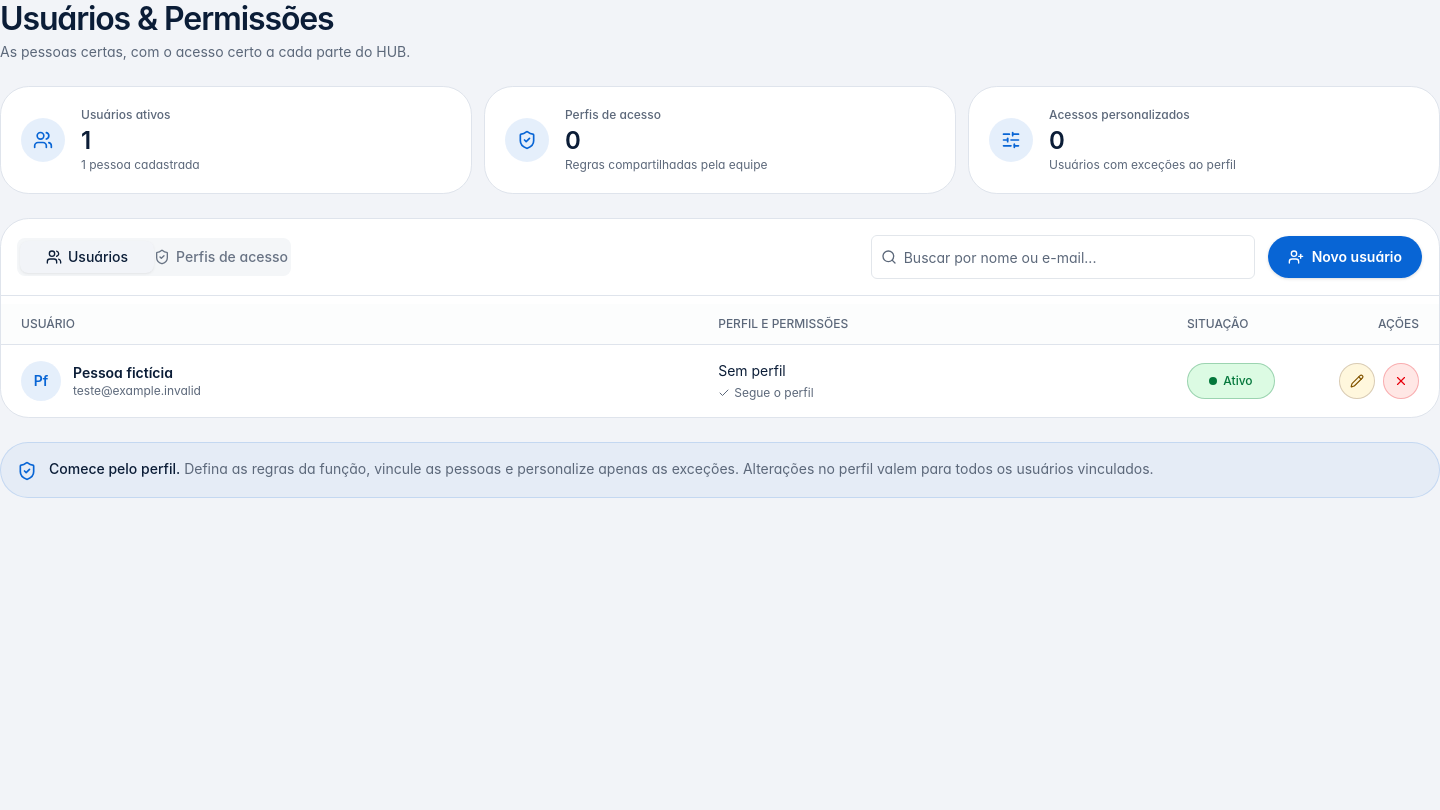
exige confirmação, cancela sem gravar, preserva em erro e atualiza sem perder a busca
The image size is (1440, 810).
Type "Pessoa" into the field named "Buscar usuários ou perfis". click: (1063, 257)
box: [871, 235, 1255, 279]
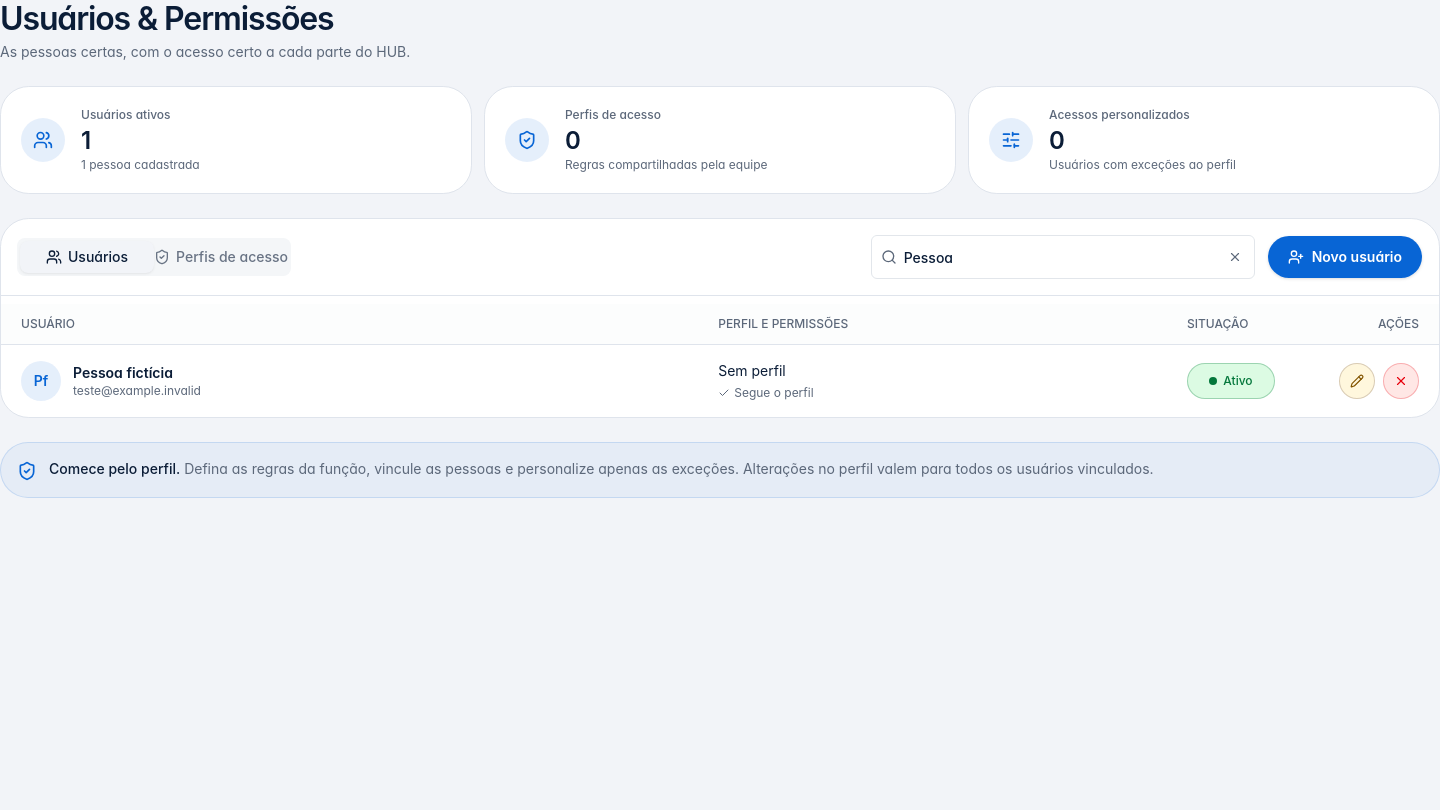
Click the switch. click: (1231, 381)
box: [1187, 363, 1275, 399]
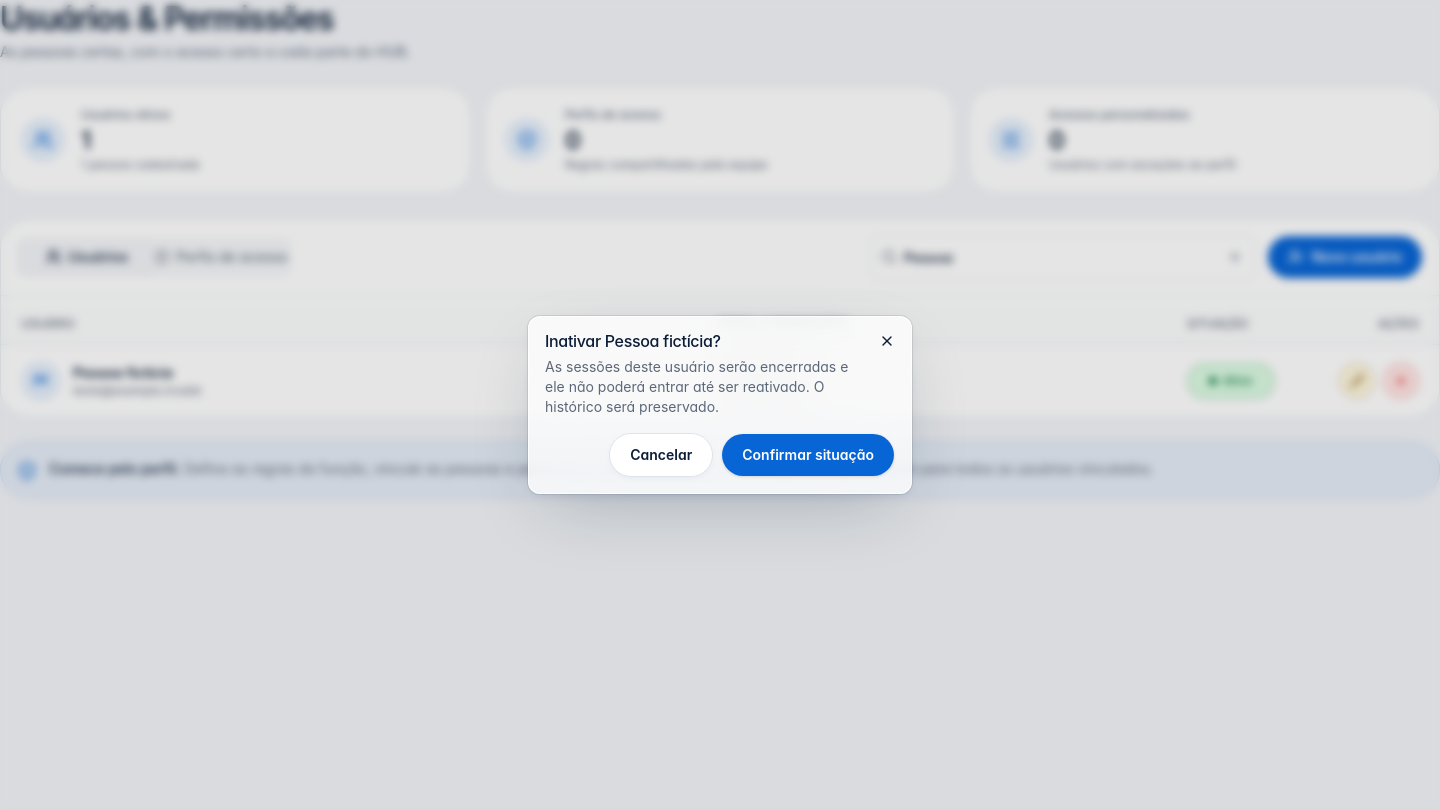
Check: the text "As sessões deste usuário serão encerradas" is shown, box [545, 358, 848, 415]
Click the button "Cancelar". click: (661, 455)
box: [609, 433, 713, 477]
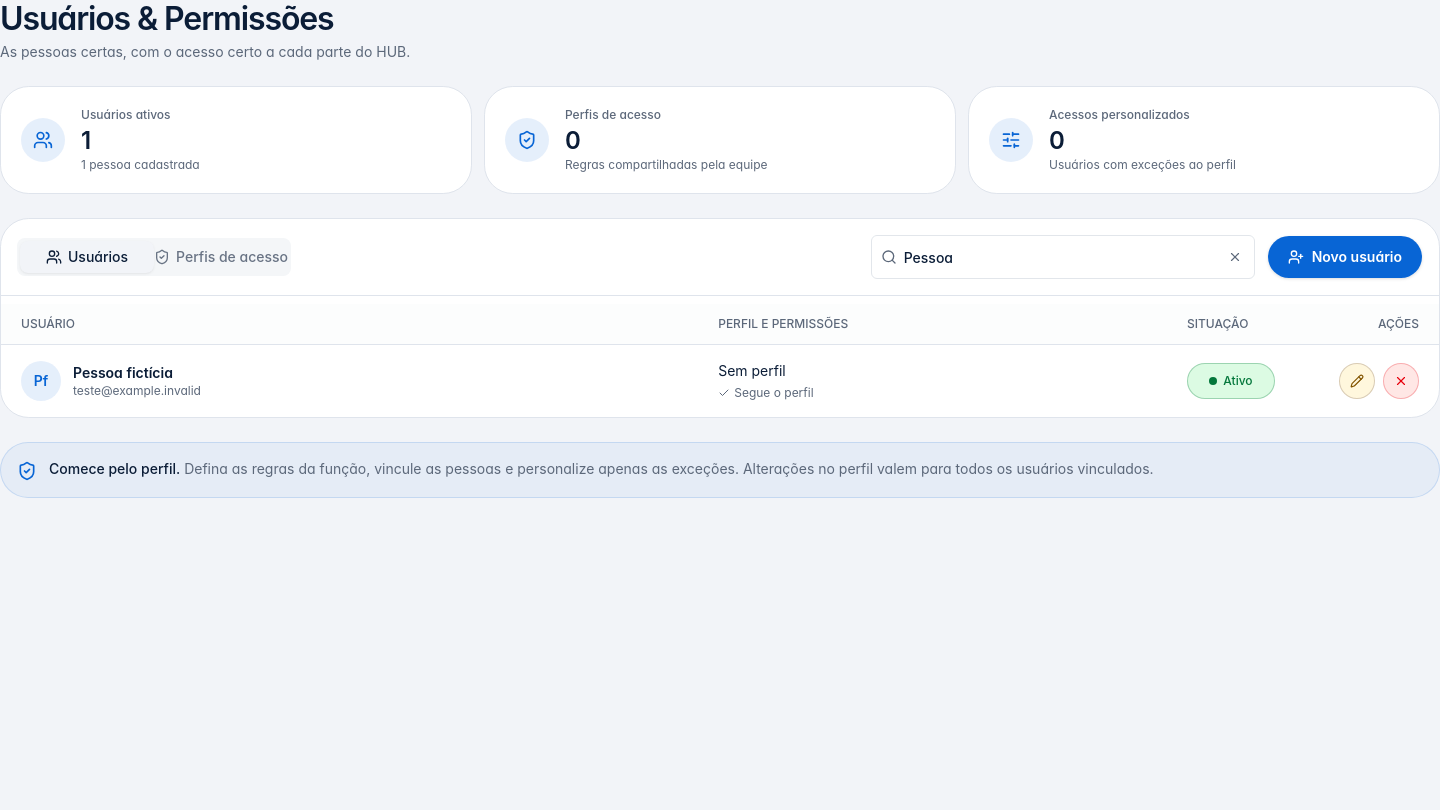
Check: the dialog is gone
Click the switch. click: (1231, 381)
box: [1187, 363, 1275, 399]
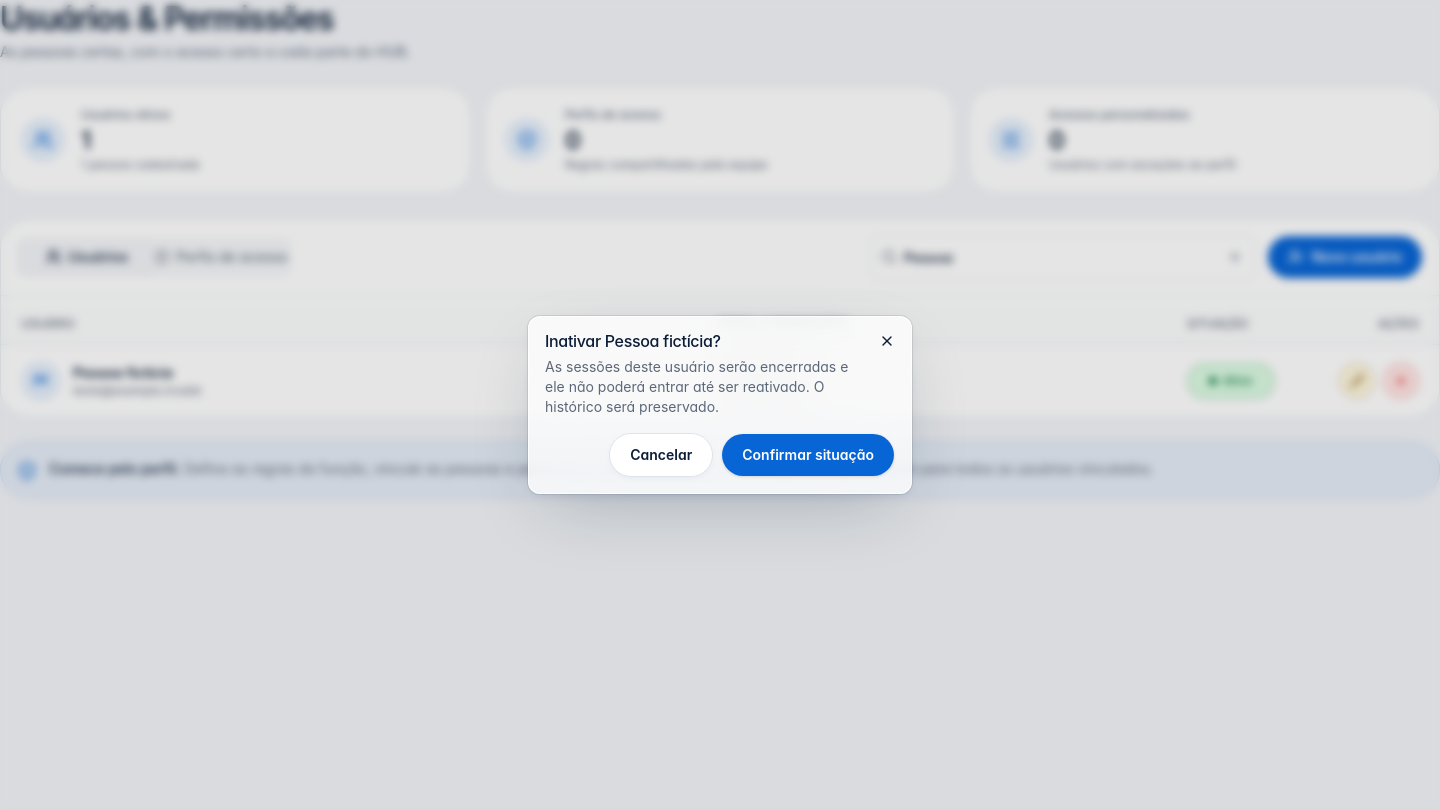
Click the button "Confirmar situação". click: (808, 455)
box: [721, 433, 895, 477]
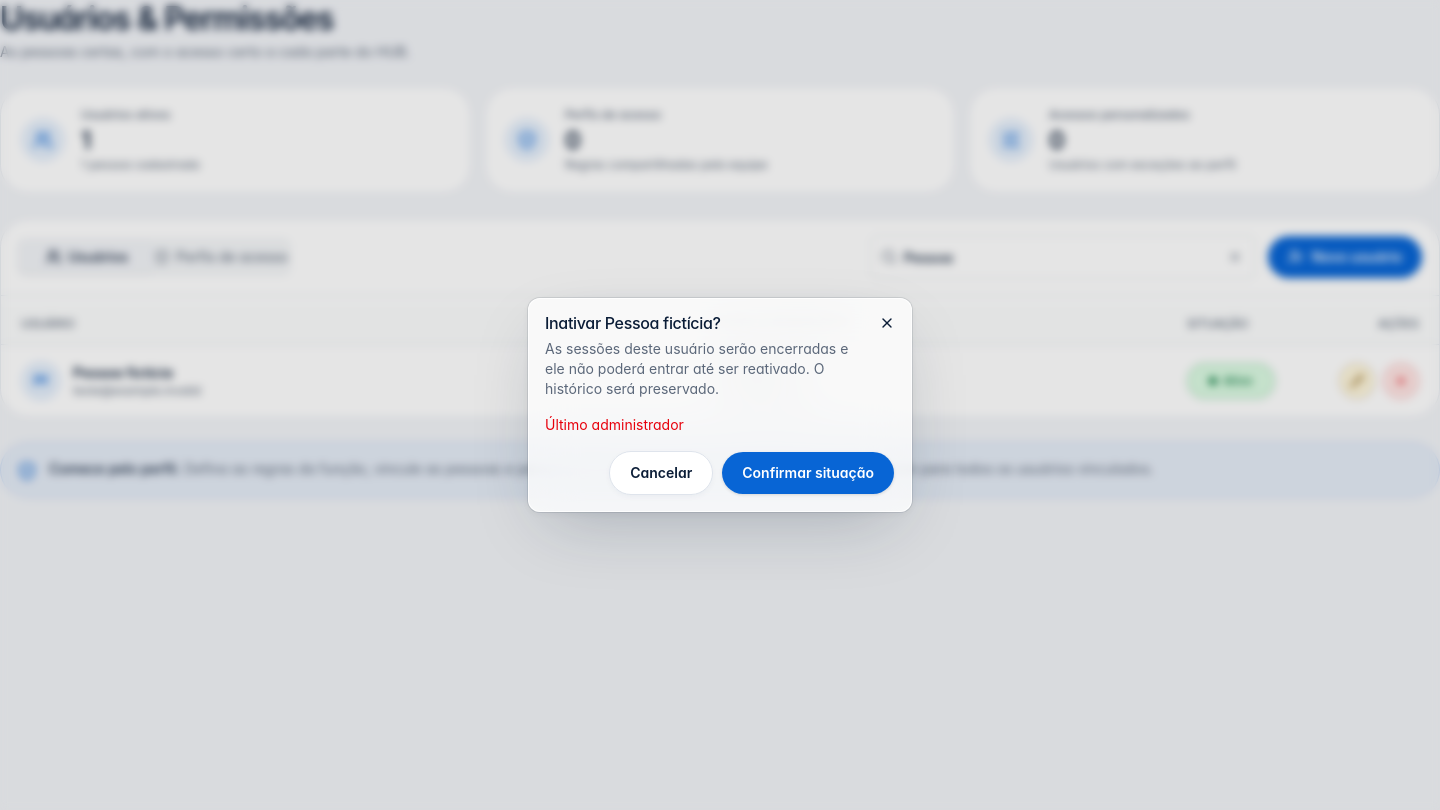
Check: the message reads "Último administrador", box [545, 416, 684, 433]
Click the button "Confirmar situação". click: (808, 473)
box: [721, 451, 895, 495]
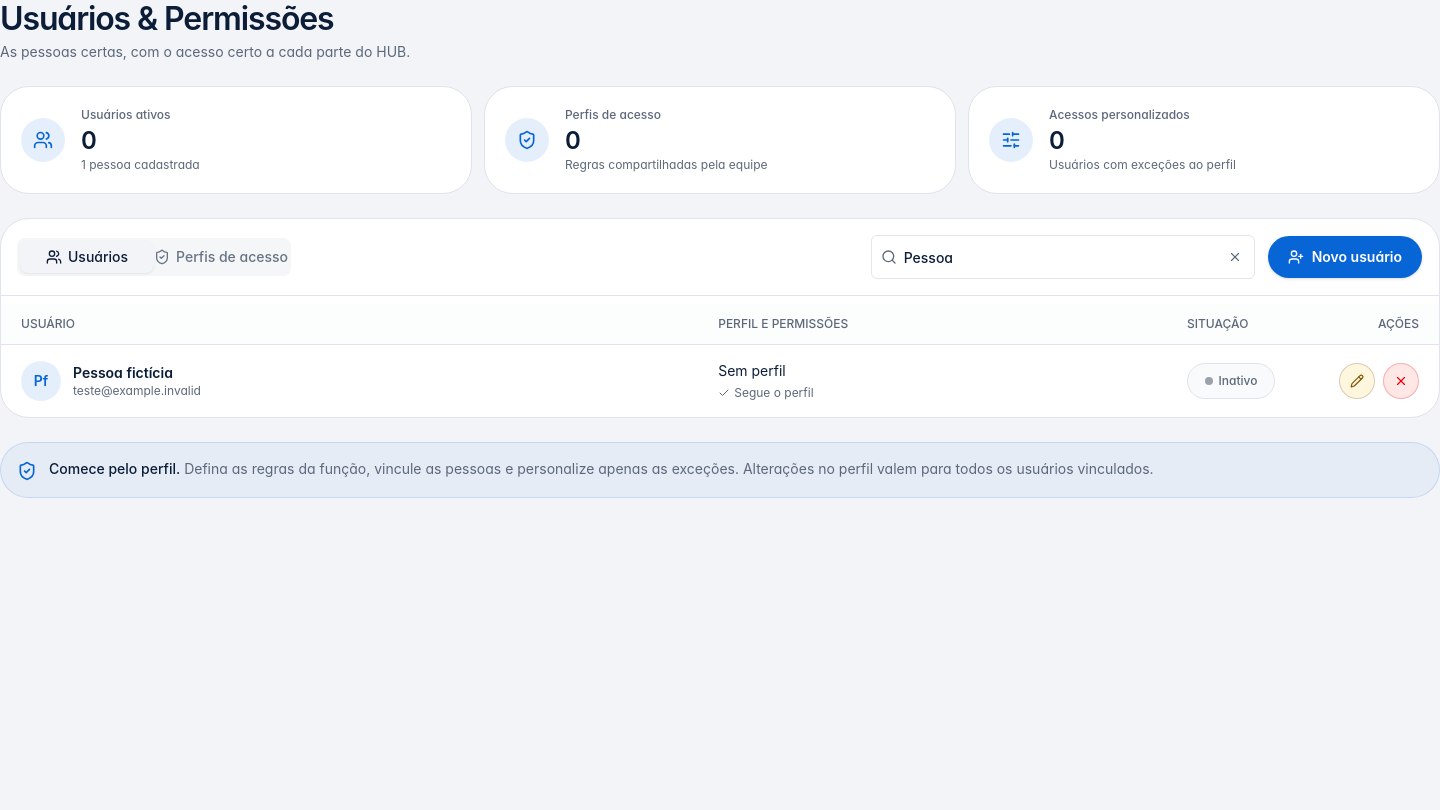
Check: the dialog is gone
